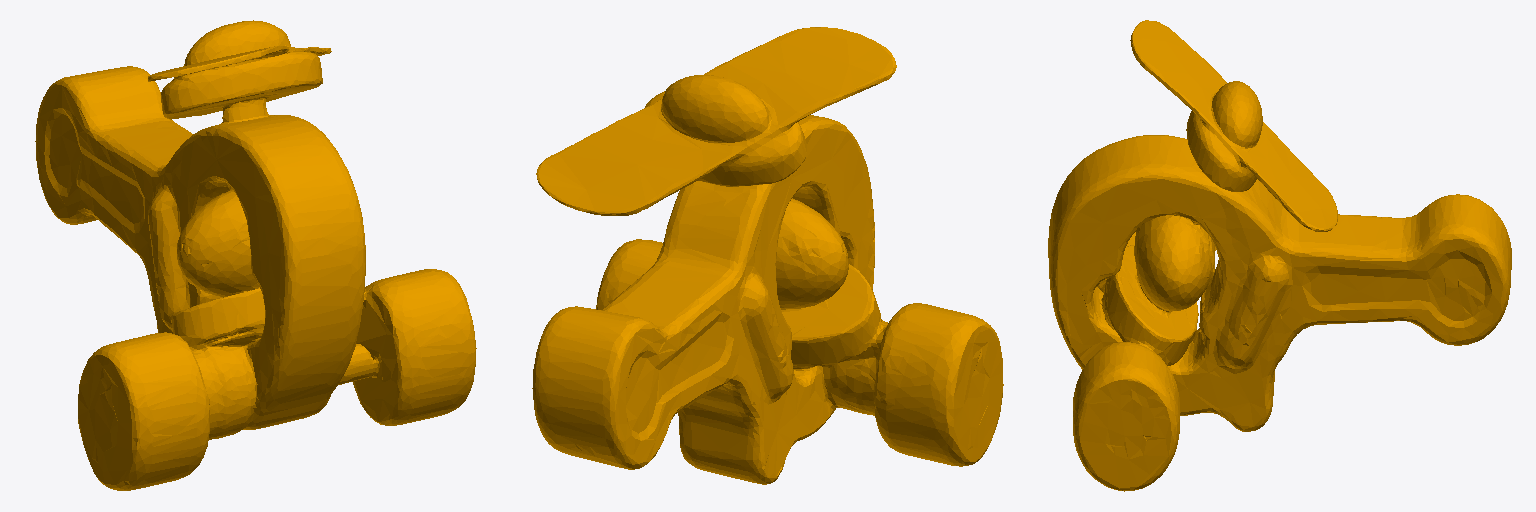
The robot description file, URDF, robot "1990n9f3":
<?xml version='1.0'?>

<robot name="1990n9f3">
    <static>false</static>
    <link name="link">
        <inertial>
            <mass value="0.13356356313087966"/>
            <inertia ixx="0.0002286492877080868" ixy="-5.159827186894365e-06" ixz="-6.783870958255345e-06"
                     iyy="0.00013805866320299479" iyz="-2.327211411114093e-05" izz="0.00020514875356987487"/>
        </inertial>
        <collision name="collision">
            <geometry>
                <mesh filename="package://miscnet/train/1990n9f3/collision_model_vhacd.obj"/>
            </geometry>
        </collision>
        <visual name="visual">
            <geometry>
                <mesh filename="package://miscnet/train/1990n9f3/visual_model.obj"/>
            </geometry>
        </visual>
    </link>
</robot>

--- Facts derived from the render (not from the file) ---
Views: 3 orthographic renders of the robot side by side, from view 1: azimuth 30°, elevation 25°; view 2: azimuth 150°, elevation 25°; view 3: azimuth 270°, elevation 25°.
Robot: 1990n9f3 — 1 links, 0 joints (none); root link link; default pose: all joints at 0.
Visible links, largest first — view 1: link; view 2: link; view 3: link.
Boxes of the visible links, box(x1,y1,x2,y2) form: link: box(35, 20, 476, 490); link: box(532, 27, 1003, 484); link: box(1048, 20, 1511, 491).
Size in the robot's own frame: 0.1093 by 0.1385 by 0.1191 metres.
1 mesh visuals loaded from 1 distinct referenced files (1 OBJ).
